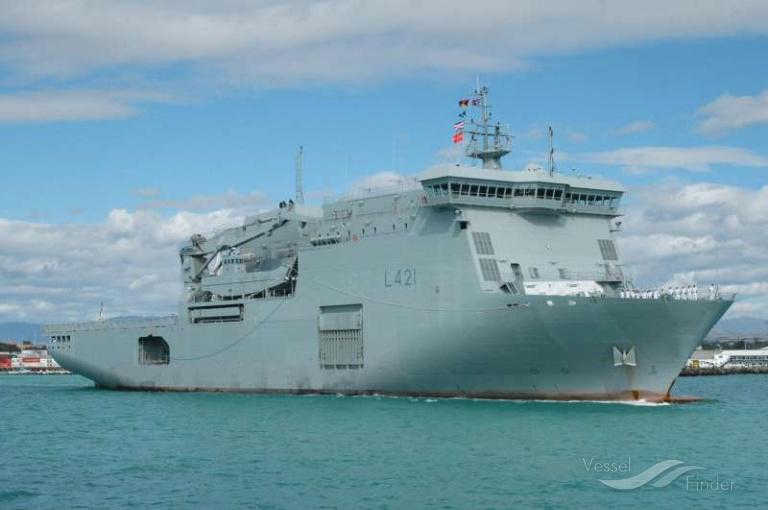OCR: (374, 266, 428, 290)
